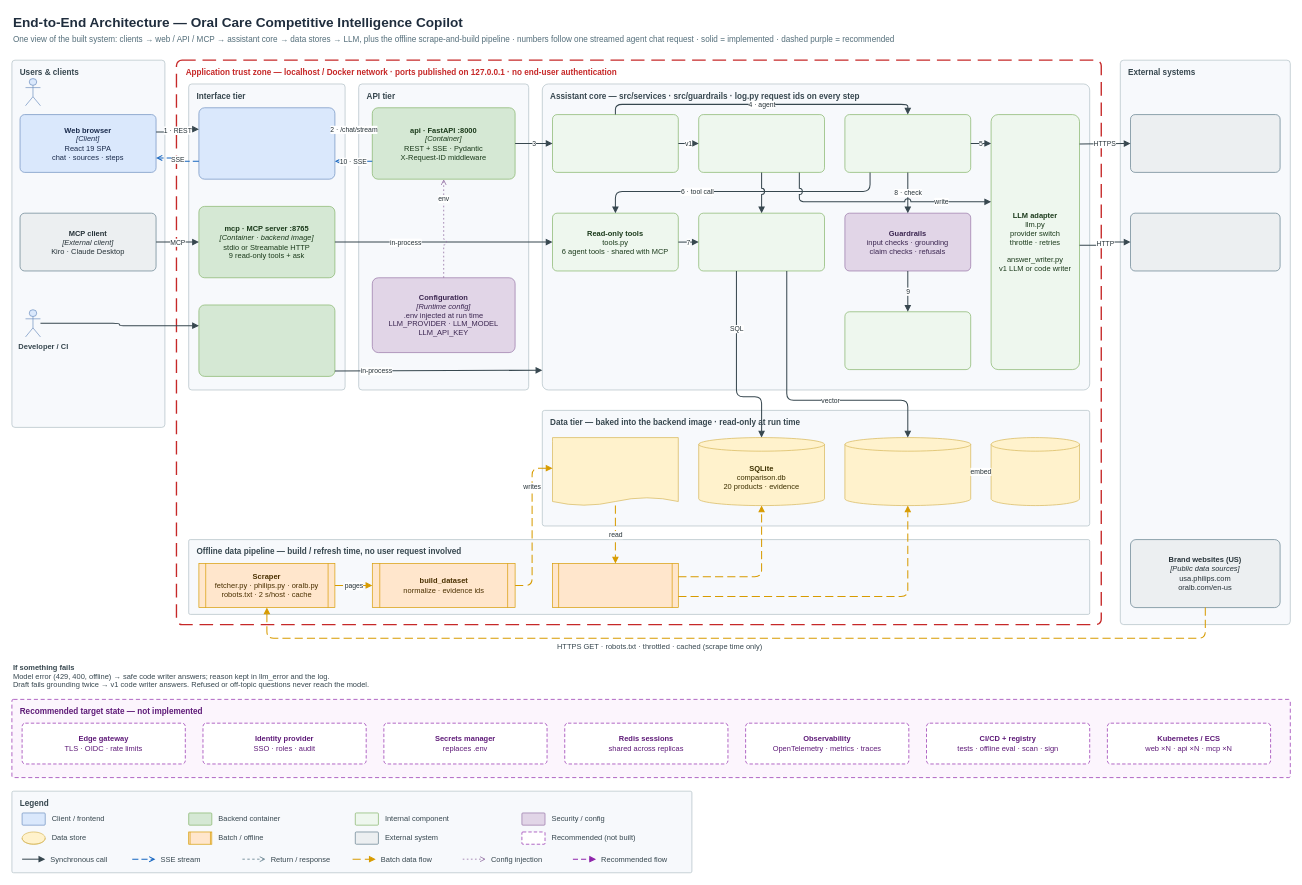
Image size: 1302x885. Some labels were removed from this diagram. Each missing label, with the centre of its shape:
Analyst: the point at 32,92
build_stores load SQLite · embed snippets: the point at 615,585
Chroma vector index 722 snippet vectors: the point at 907,471
Citations citations.py numbered sources [1], [2]: the point at 907,340
CLI & evaluation [Process] cli.py · run_eval.py in-process, no HTTP: the point at 266,340
Conversation conversation.py sessions · follow-ups · TTL 1 h: the point at 615,143
Dataset files products.json snippets.jsonl comparison_table.csv: the point at 615,471
Embedding model bge-small-en-v1.5 ONNX · fastembed: the point at 1035,471
Google Gemini API [SaaS LLM] native API thought signatures: the point at 1205,143
Ollama (optional) [Self-hosted LLM] OpenAI-compatible :11434: the point at 1205,242
Retrieval retrieval.py SQL facts + vector search: the point at 761,242
v1 Pipeline graph.py · LangGraph guard → retrieve → write → verify: the point at 761,143
v2 Agent agent.py · tool-calling loop ≤ 6 turns · 1 revision: the point at 907,143
web · nginx :8080 [Container] static SPA · proxy /api/* HTTP/1.1 · unbuffered: the point at 266,143
